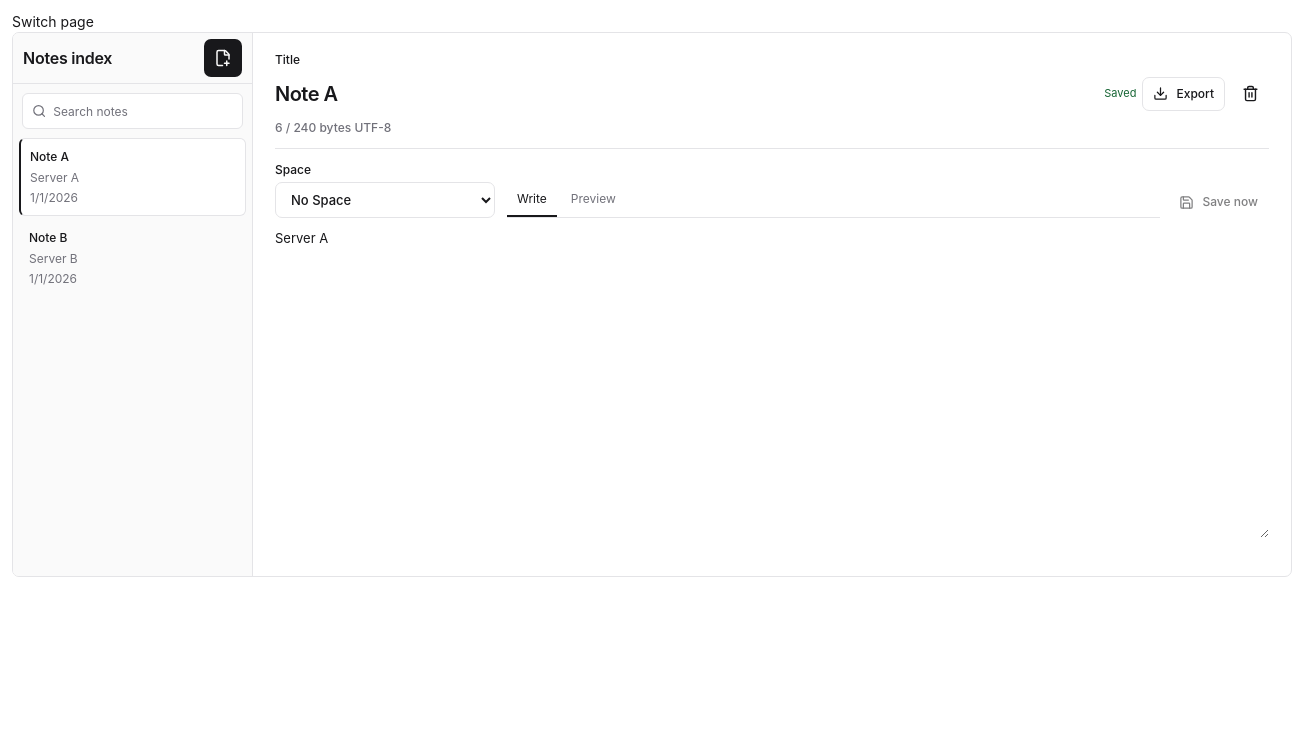
Test case: note navigation › keeps the new editor after an old note deletion completes
This screenshot has width=1292, height=732.
Click the button named "Delete note" at [1250, 94], box x1=1231 y1=75 x2=1269 y2=113
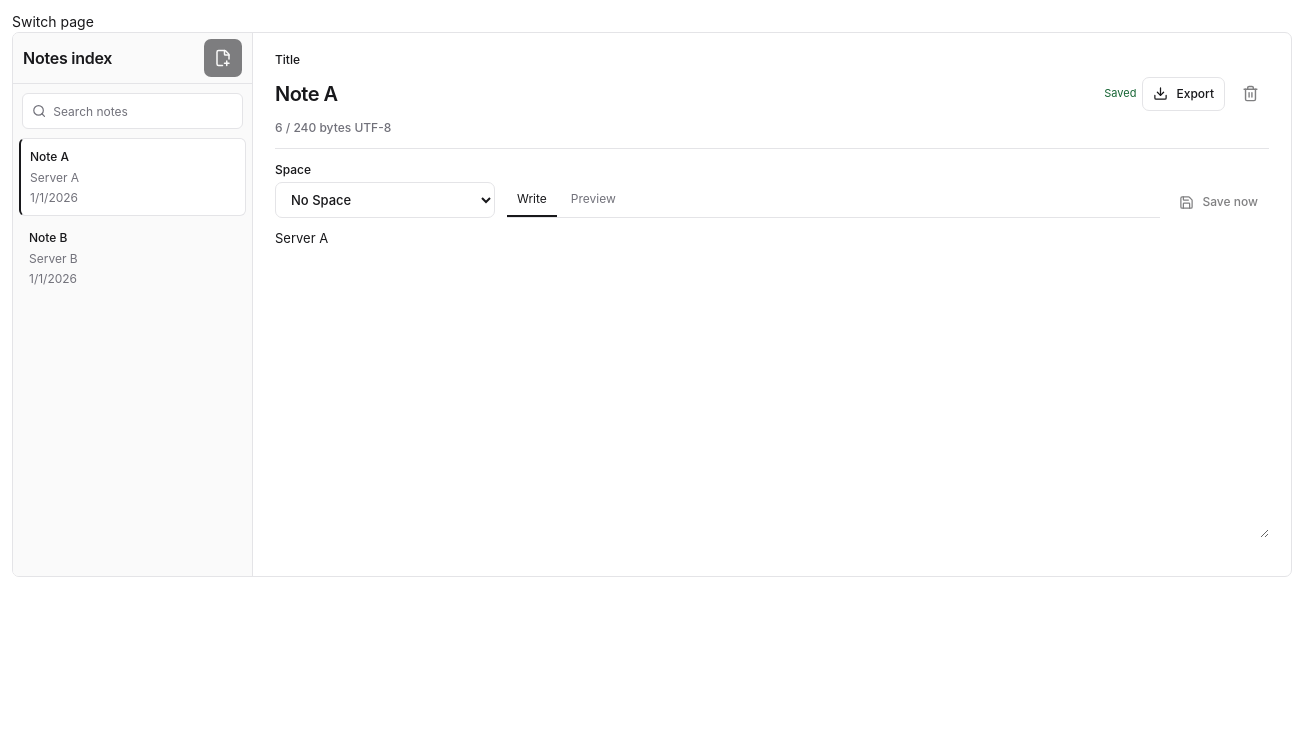
Click the tab "Note B Server B 1/1/2026" at [132, 259], box x1=19 y1=220 x2=246 y2=298
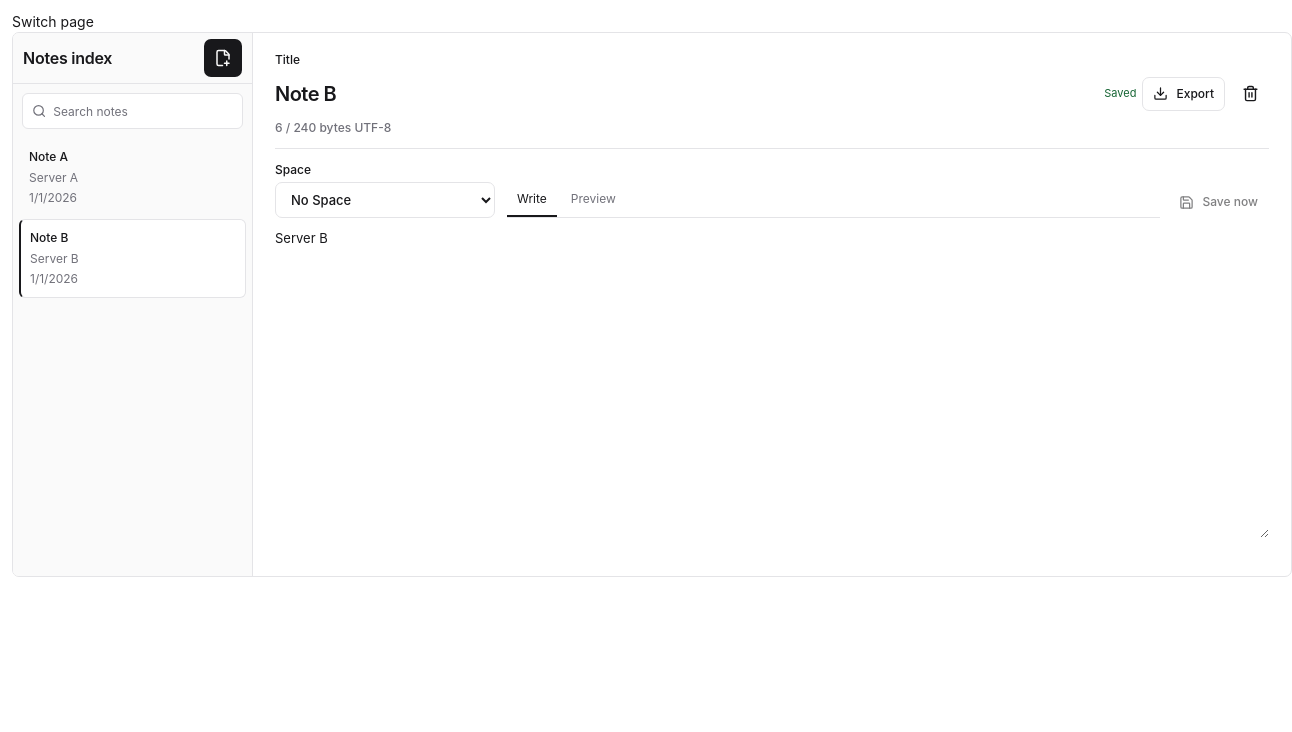
Check: the field labelled "Title" holds "Note B", box x1=275 y1=75 x2=1092 y2=113
